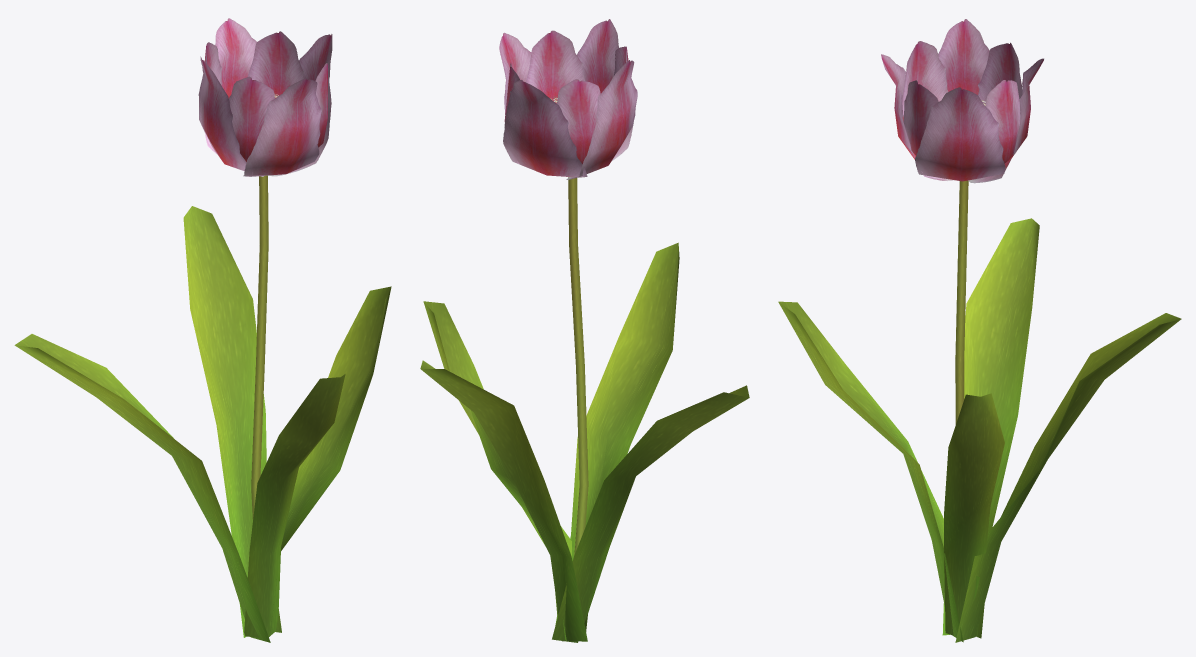
Rendered from m_flower16.fbx.
The picture shows the model from 3 angles, left to right: view 1: azimuth 30°, elevation 25°; view 2: azimuth 150°, elevation 25°; view 3: azimuth 270°, elevation 25°; orthographic projection.
Parts seen in each view (by area): view 1: mesh_flower16; view 2: mesh_flower16; view 3: mesh_flower16.
Boxes of the visible parts, left/top/right/bottom form: mesh_flower16: left=14, top=18, right=391, bottom=642; mesh_flower16: left=420, top=19, right=749, bottom=642; mesh_flower16: left=778, top=19, right=1181, bottom=642.
Bounding box in the file's own units: 0.259 × 0.4209 × 0.2594.
1 material, 1 textured.
